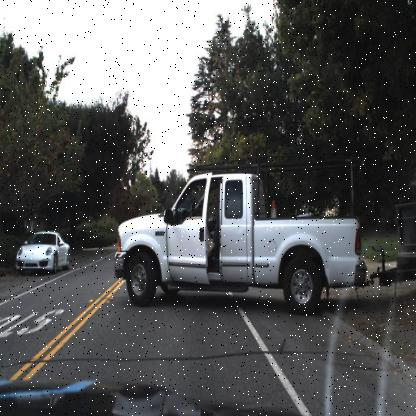car: (112, 156, 370, 324), (13, 228, 72, 277)
